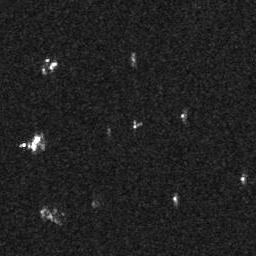ship: (31, 135, 42, 149), (49, 60, 57, 70)
